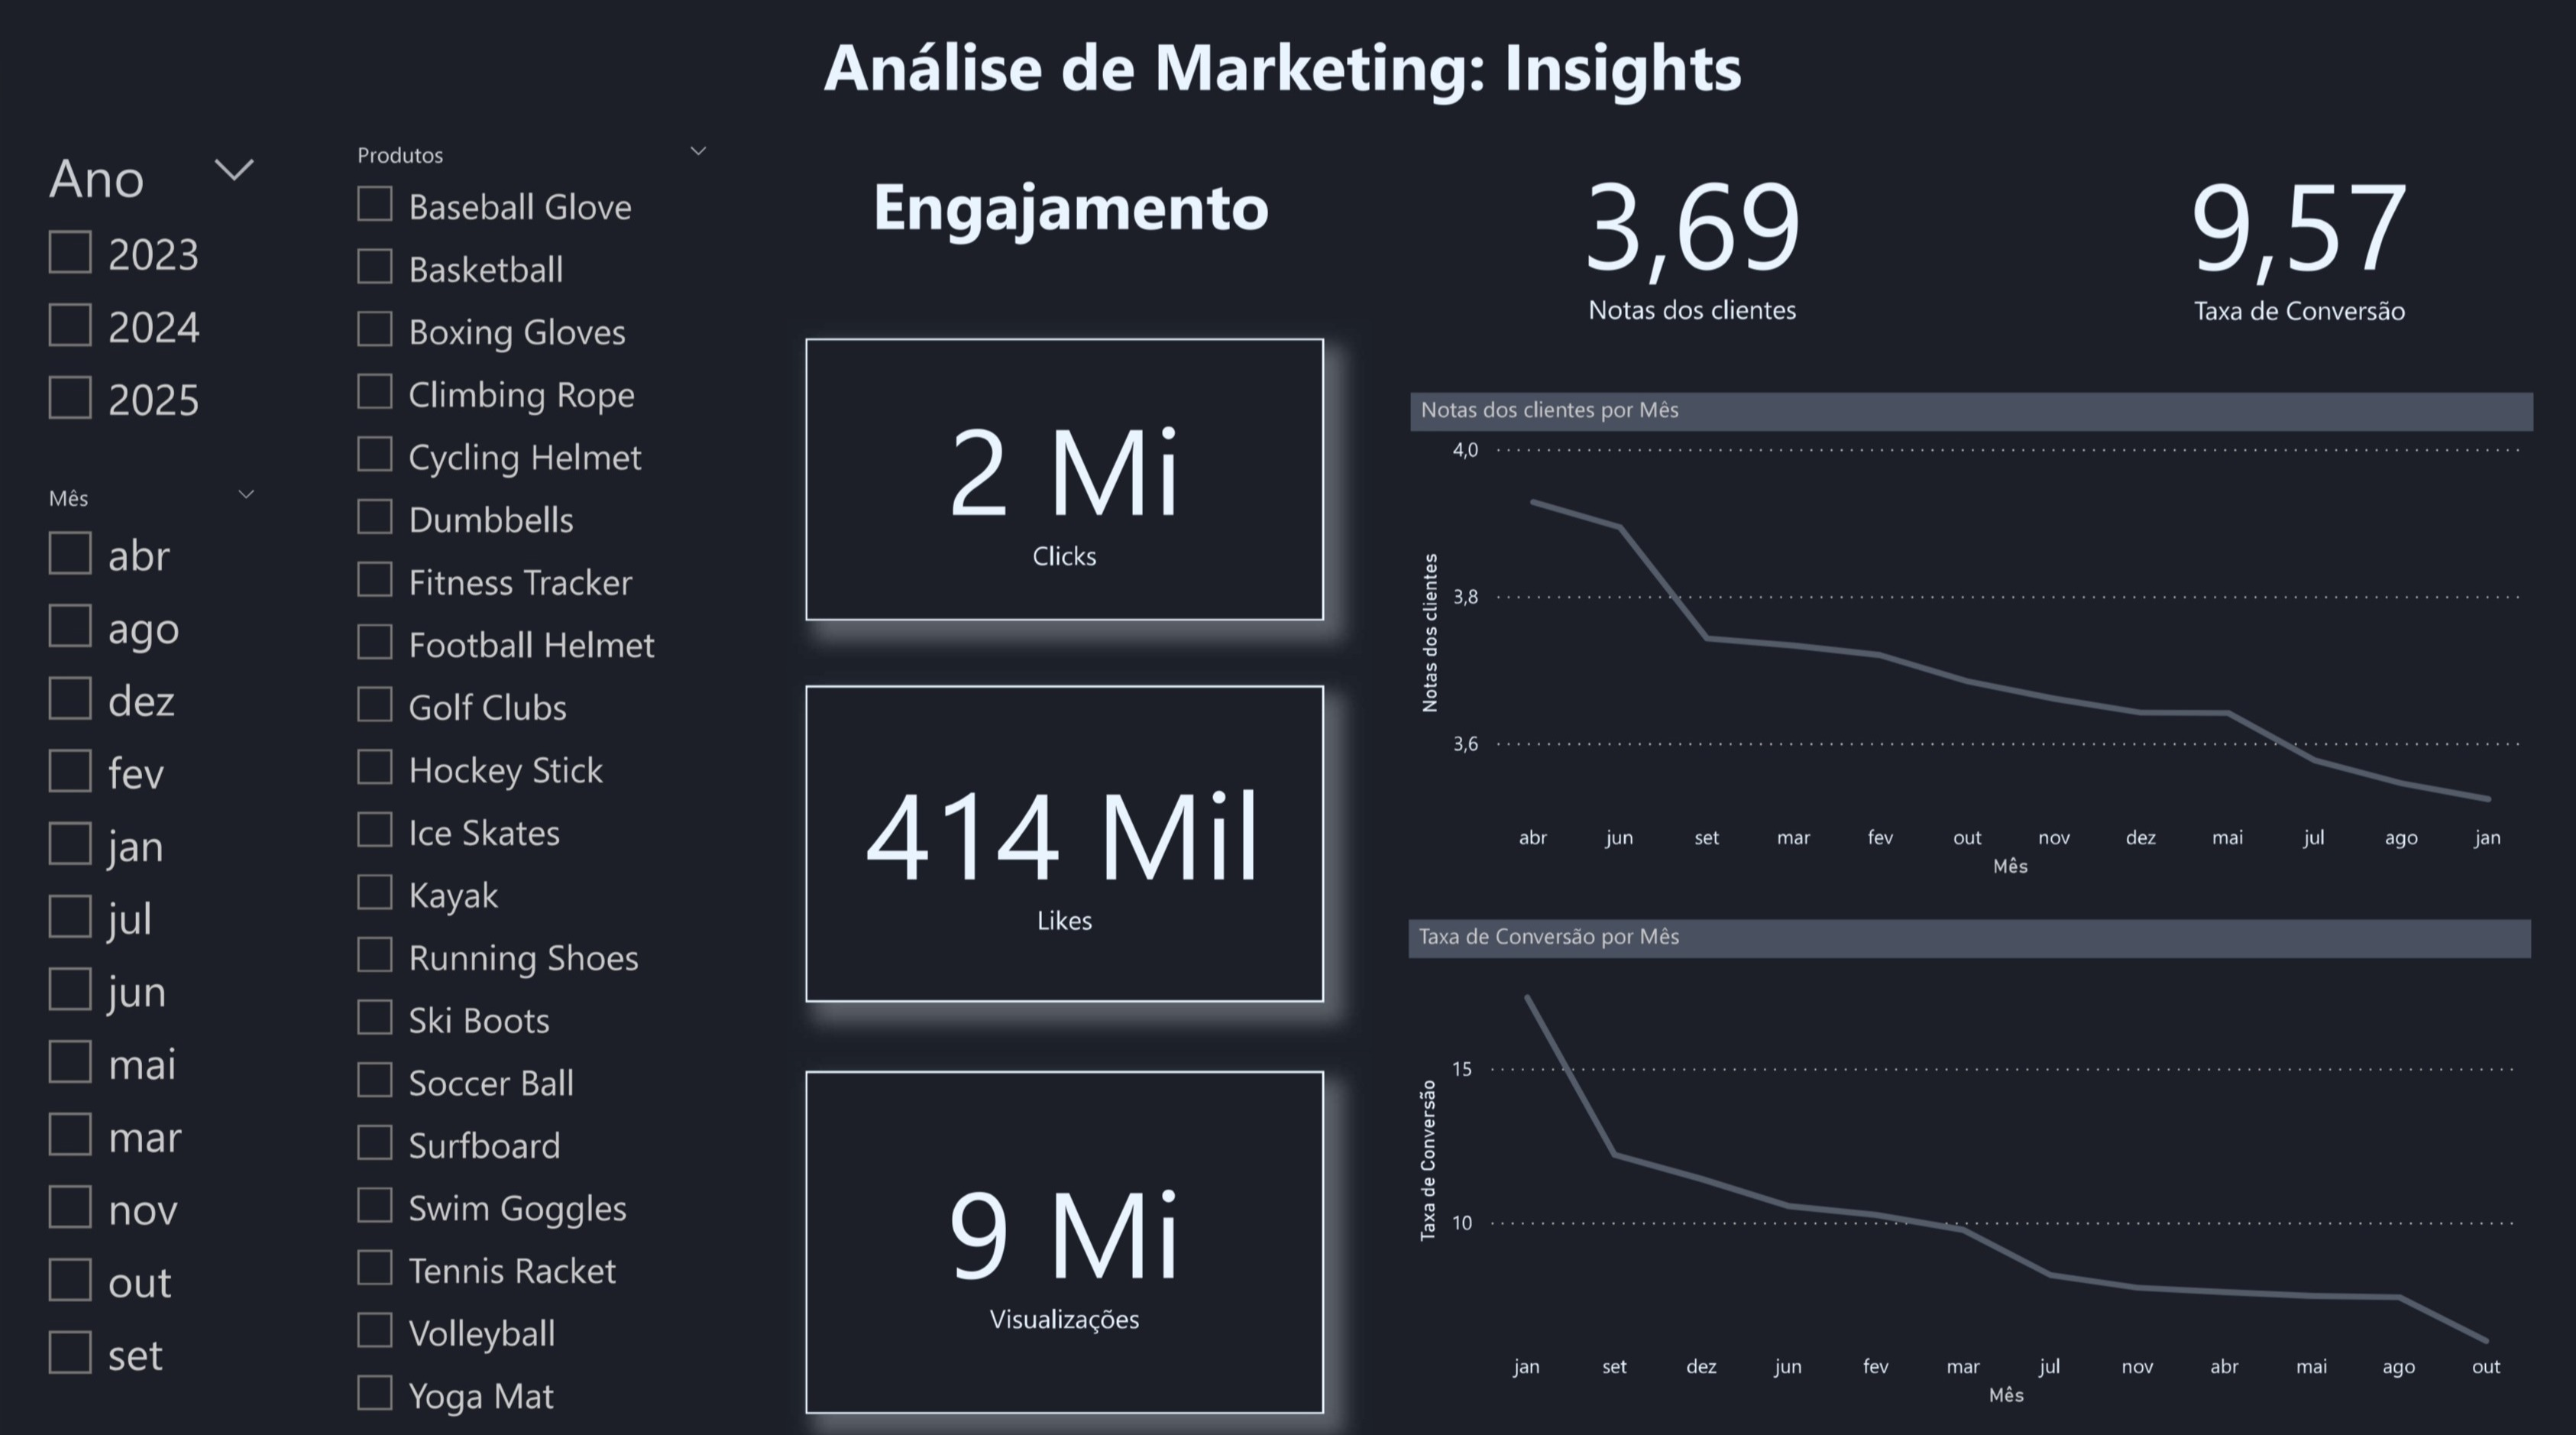

This screenshot's page, from the dashboard's own definition file:
{"tool":"powerbi","page":{"name":"Página 1","canvas":[1280,720],"ordinal":0},"visuals":[{"type":"card","fields":{"Values":["Calc (2).Taxa de Conversão"]},"box":[1024.5,69.9,229.4,103.1],"z":0},{"type":"textbox","box":[398.8,68.7,257.7,77.3],"z":1000},{"type":"card","fields":{"Values":["Calc (2).Clicks"]},"box":[398.8,173,257.7,139.9],"z":2000},{"type":"card","fields":{"Values":["Calc (2).Likes"]},"box":[398.8,344.8,257.7,157.1],"z":3000},{"type":"card","fields":{"Values":["Calc (2).Visualizações"]},"box":[398.8,536.2,257.7,169.3],"z":4000},{"type":"slicer","fields":{"Values":["products.ProductName"]},"box":[164.4,68.7,198.8,651.5],"z":5000},{"type":"gauge","fields":{"Y":["Calc (2).Notas dos clientes"]},"box":[699.4,68.7,278.5,104.3],"z":6000},{"type":"slicer","fields":{"Values":["Calendar.Ano"]},"box":[11,68.7,127.6,153.4],"z":7000},{"type":"slicer","fields":{"Values":["Calendar.Mês"]},"box":[11,239.3,127.6,466.3],"z":8000},{"type":"lineChart","fields":{"Y":["Calc (2).Taxa de Conversão"],"Category":["Calendar.Mês"]},"box":[698.2,461.4,555.8,244.2],"z":9000},{"type":"lineChart","fields":{"Y":["Calc (2).Notas dos clientes"],"Category":["Calendar.Mês"]},"box":[699.4,200,555.8,244.2],"z":10000},{"type":"textbox","box":[0,0,1279.8,57.7],"z":11000}]}

Visuals, with their boxes in screenshot pixels (x1, y1, x2, y2), scaled from the page's 1280x720 canvas onto the 2576x1435 screenshot:
card - Calc (2).Taxa de Conversão: crop(2062, 139, 2523, 345)
textbox: crop(803, 137, 1321, 291)
card - Calc (2).Clicks: crop(803, 345, 1321, 624)
card - Calc (2).Likes: crop(803, 687, 1321, 1000)
card - Calc (2).Visualizações: crop(803, 1069, 1321, 1406)
slicer - products.ProductName: crop(331, 137, 731, 1434)
gauge - Calc (2).Notas dos clientes: crop(1407, 137, 1968, 345)
slicer - Calendar.Ano: crop(22, 137, 279, 442)
slicer - Calendar.Mês: crop(22, 477, 279, 1406)
lineChart - Calc (2).Taxa de Conversão x Calendar.Mês: crop(1405, 919, 2524, 1406)
lineChart - Calc (2).Notas dos clientes x Calendar.Mês: crop(1407, 399, 2526, 886)
textbox: crop(0, 0, 2575, 115)
